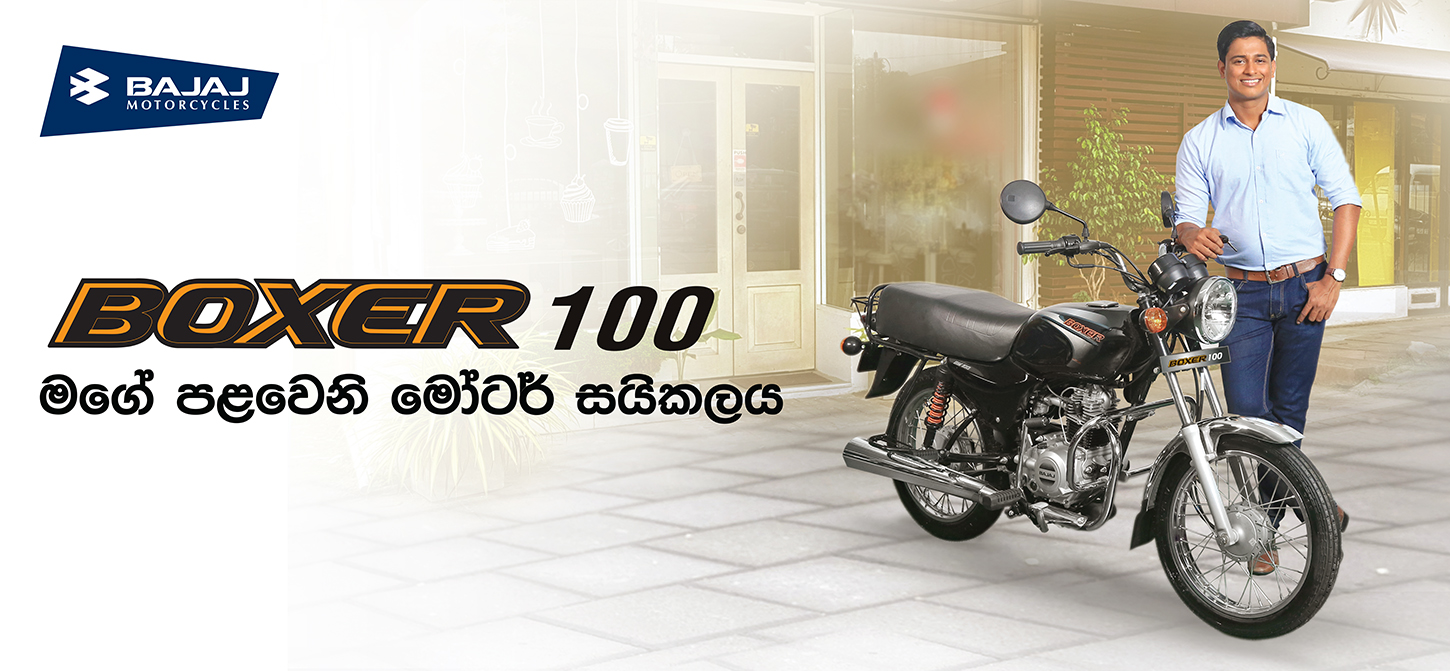motorbike: (852, 210, 1354, 645)
